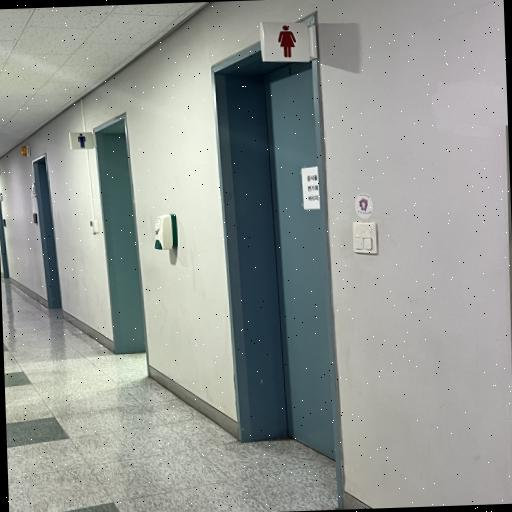door: (211, 13, 341, 509)
